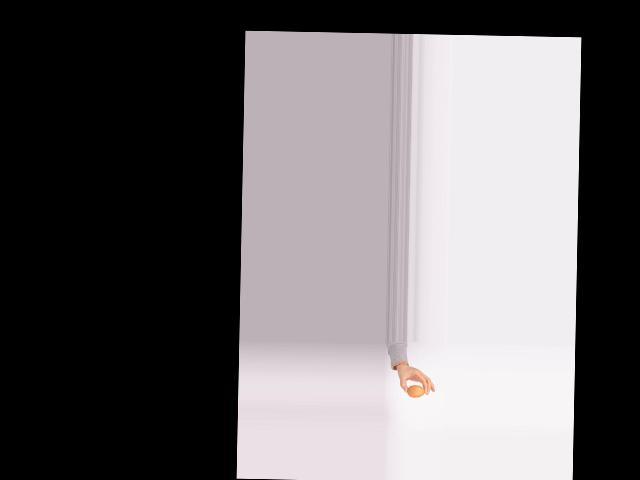egg: (407, 385, 425, 398)
